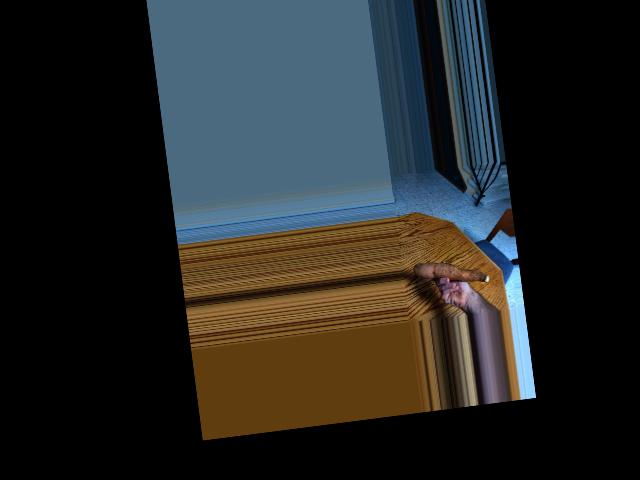sweet_potato: (414, 251, 489, 295)
